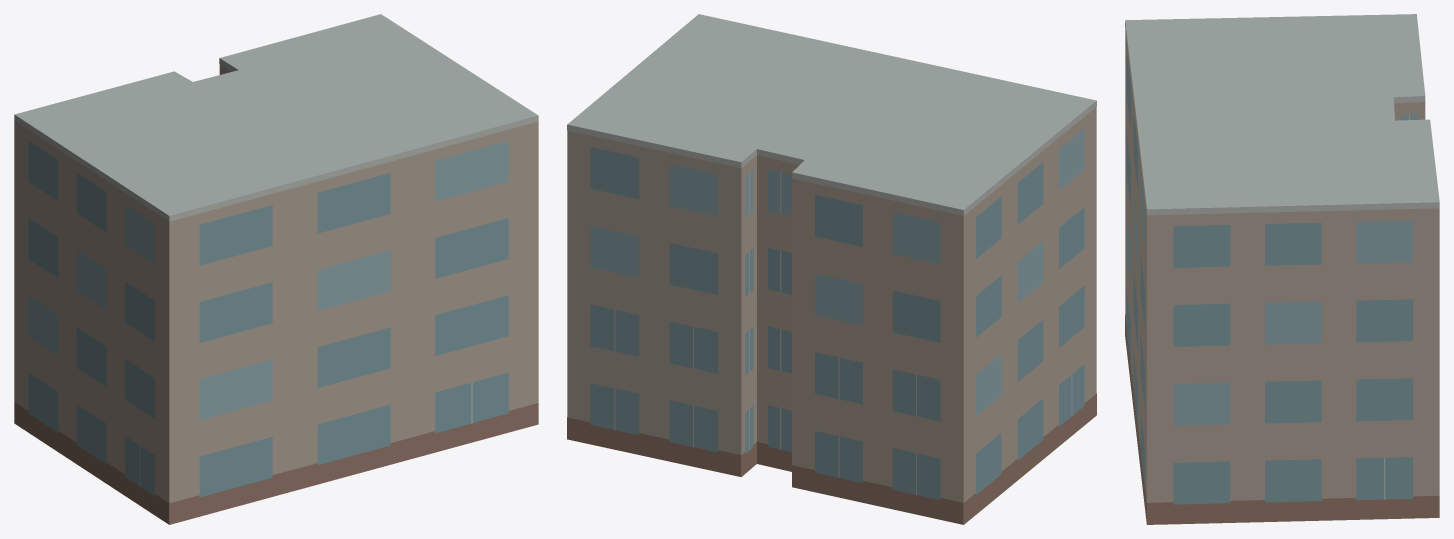
File: survey-upis-32731964.glb
The picture shows the model from 3 angles, left to right: view 1: azimuth 30°, elevation 25°; view 2: azimuth 150°, elevation 25°; view 3: azimuth 270°, elevation 25°; orthographic projection. The views are drawn at different scales.
Visible parts, largest first — view 1: survey-upis-32731964.tmp; view 2: survey-upis-32731964.tmp; view 3: survey-upis-32731964.tmp.
Part boxes in pixels (<box>): survey-upis-32731964.tmp: <box>14,14,538,524</box>; survey-upis-32731964.tmp: <box>567,14,1096,524</box>; survey-upis-32731964.tmp: <box>1125,14,1439,524</box>.
Bounding box in the file's own units: 17.15 × 12.9 × 11.67.
